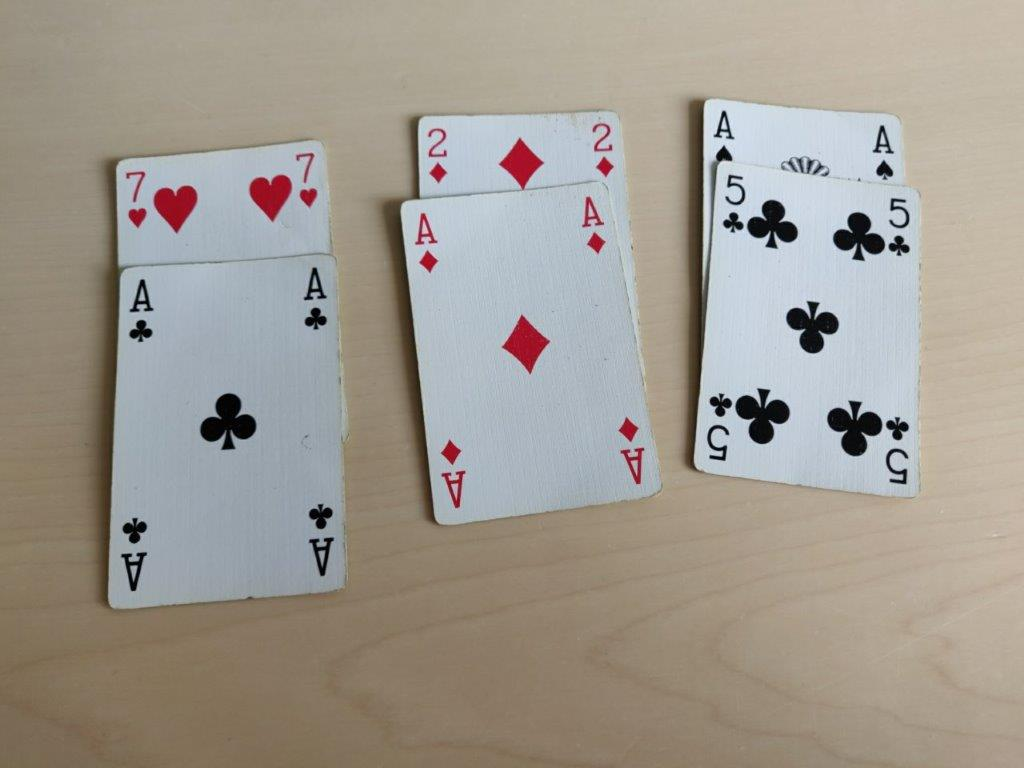2D: (580, 112, 619, 183), (416, 119, 456, 186)
5C: (884, 191, 916, 263), (717, 167, 749, 237)
7H: (116, 156, 154, 235), (289, 149, 321, 209)
AC: (113, 267, 166, 348), (293, 258, 333, 337)
AD: (402, 200, 447, 281), (572, 190, 617, 258)
AS: (865, 116, 898, 188)
